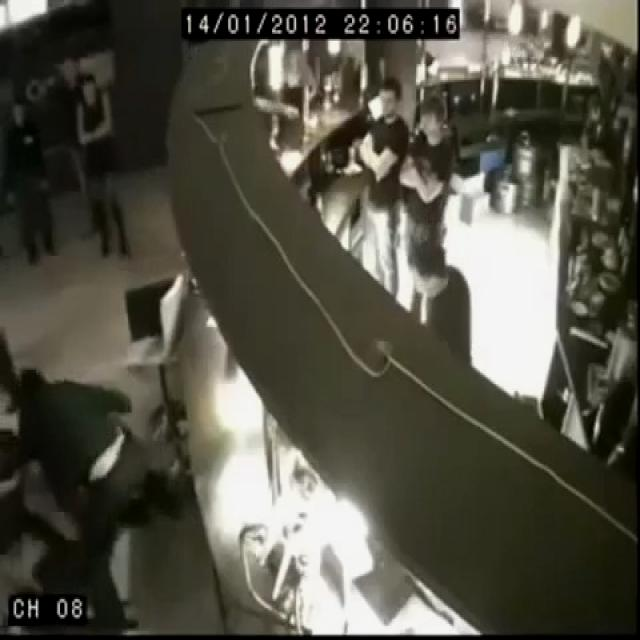fight: (12, 358, 191, 624)
